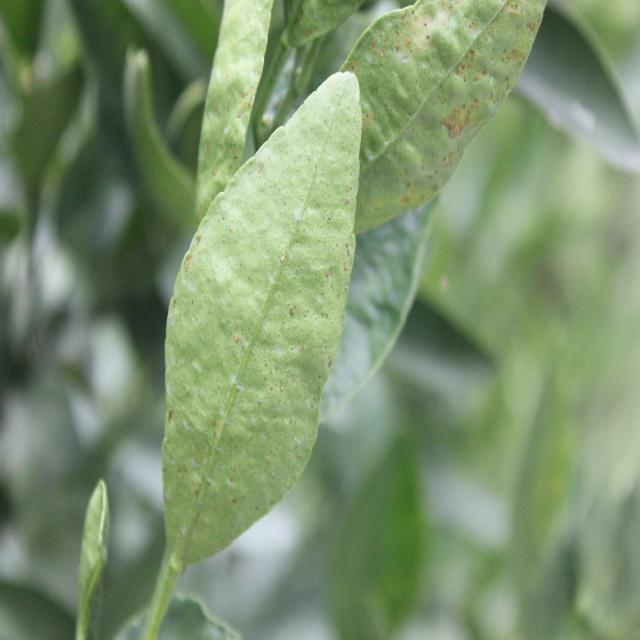canker: (164, 154, 354, 543), (371, 1, 541, 212)
